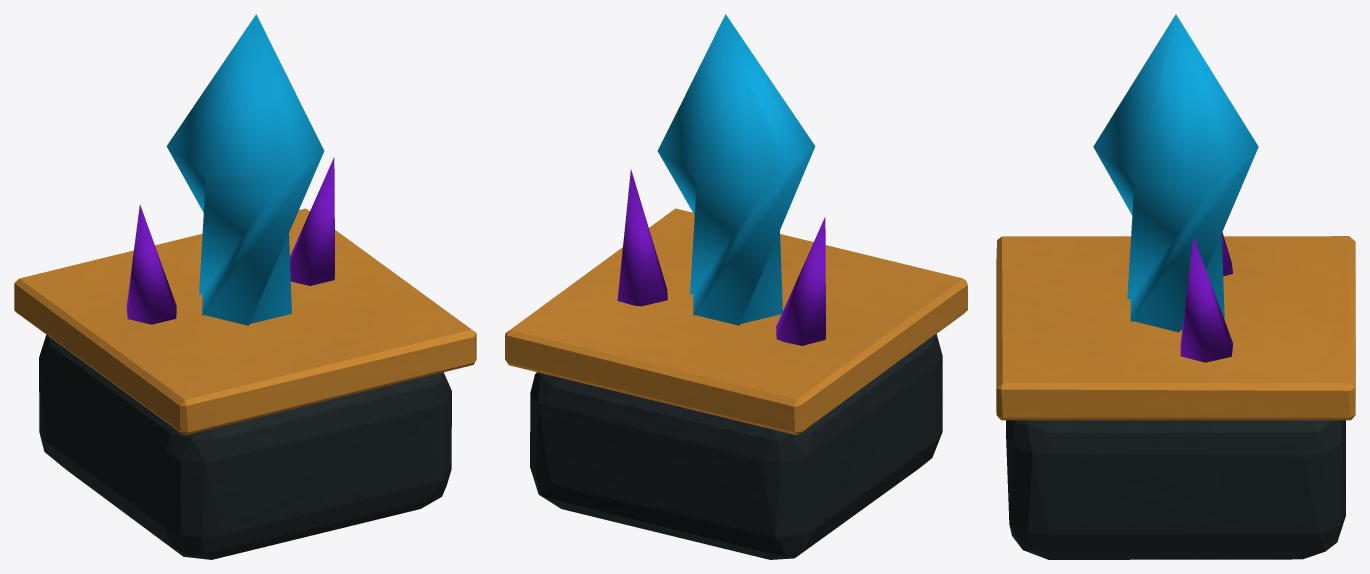
Rendered from SM_crystal_plinth_LOD1.fbx.
The picture shows the model from 3 angles, left to right: view 1: azimuth 30°, elevation 25°; view 2: azimuth 150°, elevation 25°; view 3: azimuth 270°, elevation 25°; orthographic projection. The views are drawn at different scales.
Parts seen in each view (by area): view 1: SM_crystal_plinth_LOD1; view 2: SM_crystal_plinth_LOD1; view 3: SM_crystal_plinth_LOD1.
Part boxes in pixels (x1,y1,x2,y2): SM_crystal_plinth_LOD1: (14,14,476,559); SM_crystal_plinth_LOD1: (505,14,967,559); SM_crystal_plinth_LOD1: (996,14,1355,559).
Bounding box in the file's own units: 0.8255 × 0.8255 × 1.25.
